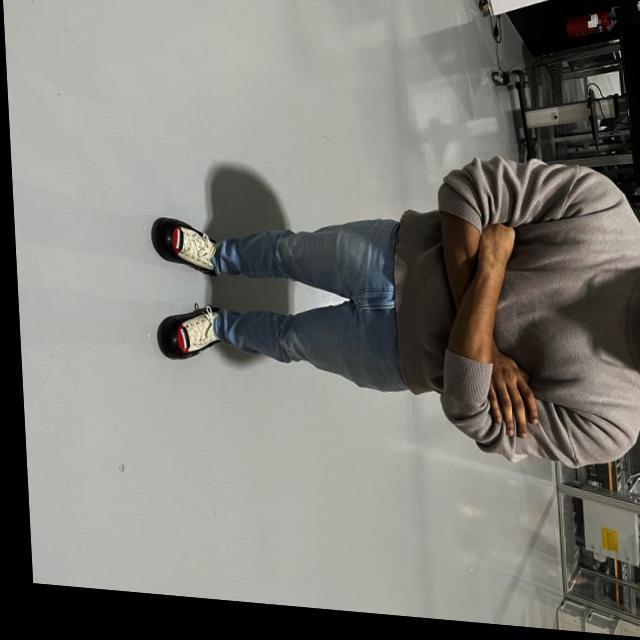shoes: (140, 212, 222, 279), (151, 304, 228, 364)
